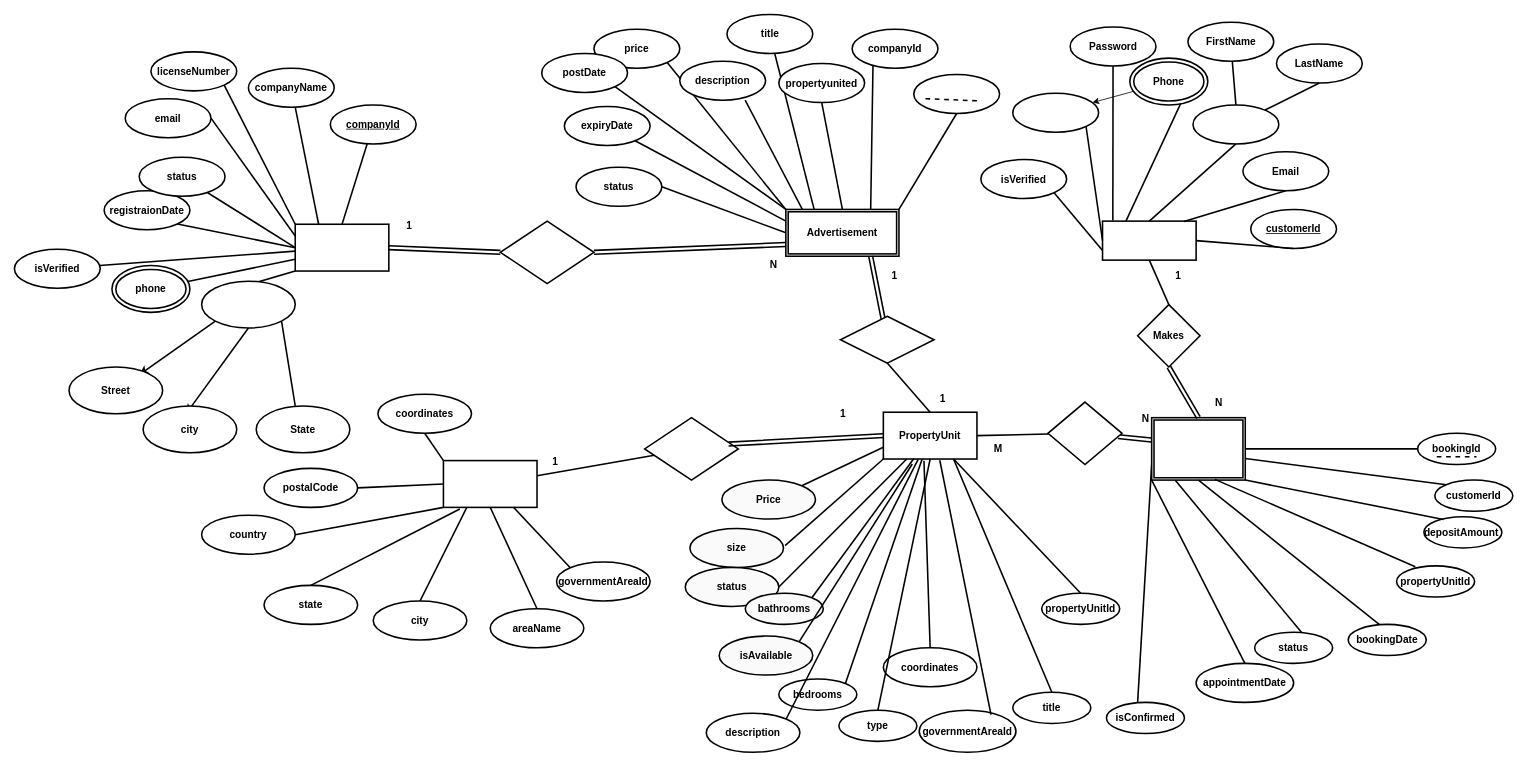
Image size: 1526x766. Some labels were removed from this diagram. Here are the shapes that lost their labels. From the top down, the centre of each, then its label:
the point at 956,93: advertisementId
the point at 1055,112: registrationDate
the point at 1235,124: Name
the point at 341,247: Real estate companies
the point at 546,252: Create
the point at 1149,240: Customer
the point at 248,304: address
the point at 886,339: feature
the point at 691,448: Location in
the point at 1084,433: reservs
the point at 1198,448: Booking
the point at 489,483: GovernmentArea
